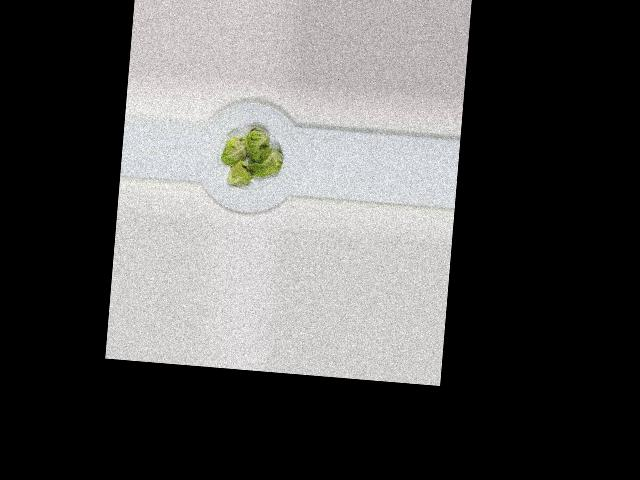lettuce: (212, 114, 312, 229)
